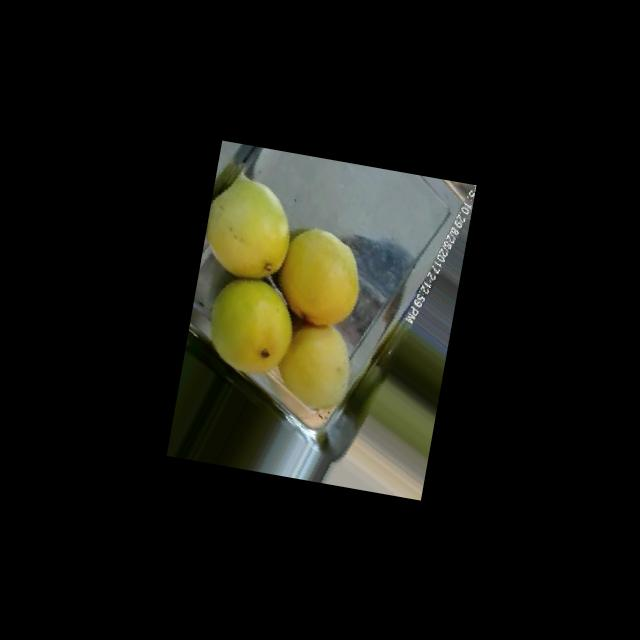Mango: (199, 171, 299, 285), (200, 274, 300, 379), (271, 224, 368, 332), (272, 318, 356, 413)
